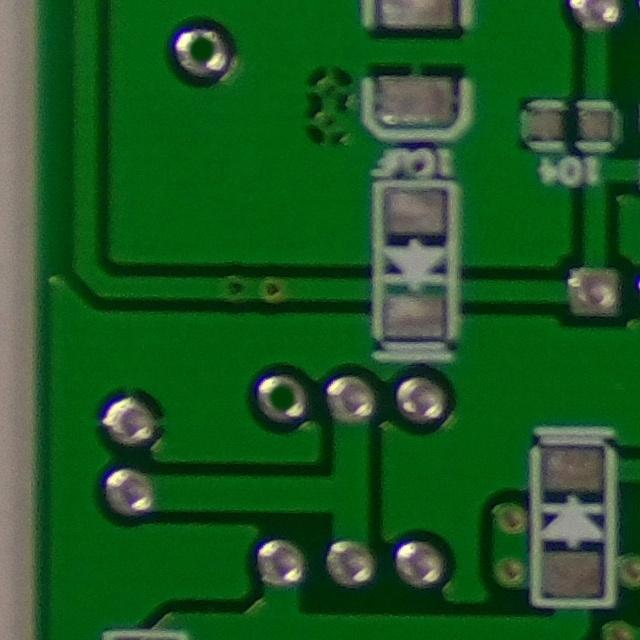missing_hole: (176, 27, 233, 86), (256, 369, 308, 430)
